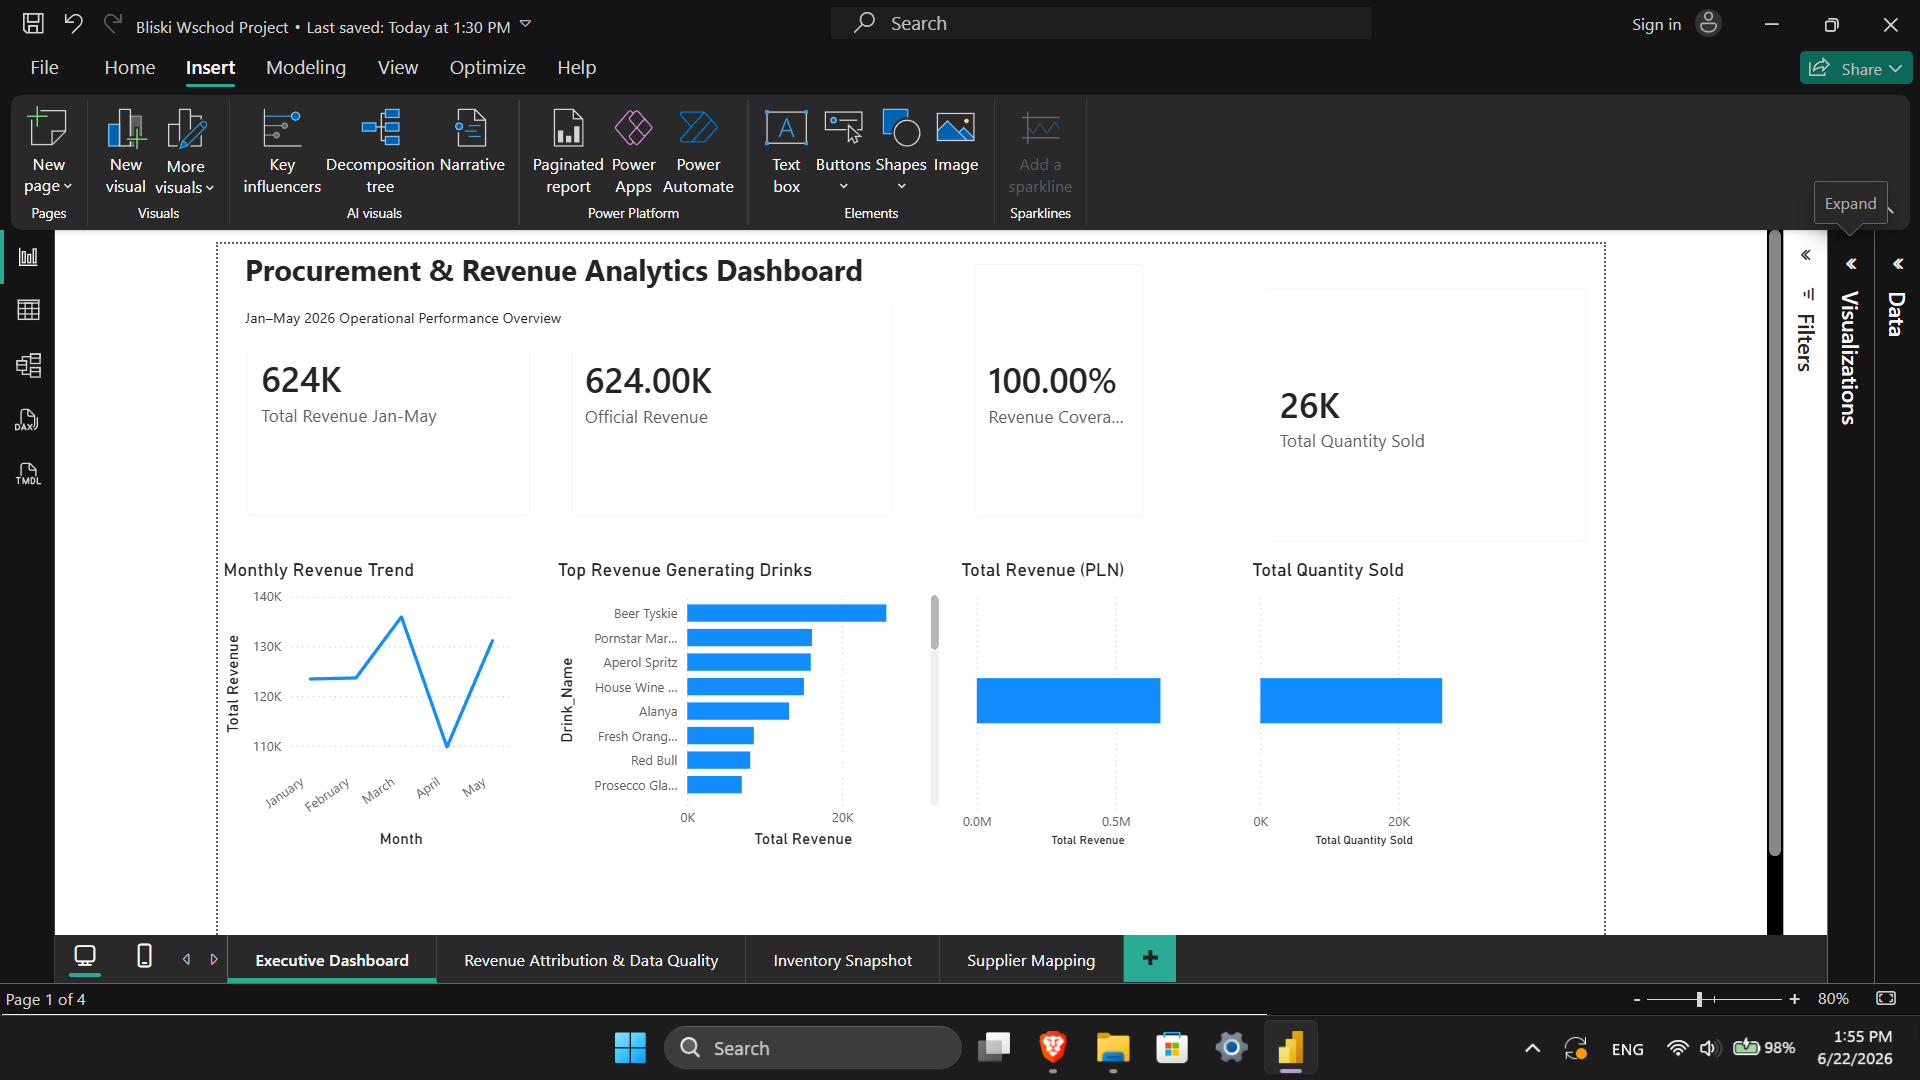

The page's visual inventory and layout, read from the dashboard file:
{"tool":"powerbi","page":{"name":"Executive Dashboard","canvas":[1280,720],"ordinal":0},"visuals":[{"type":"cardVisual","fields":{"Data":["Measure_Table.Total Revenue Jan-May"]},"box":[10,0,295,268.3],"z":0},{"type":"cardVisual","fields":{"Data":["Measure_Table.Official Revenue"]},"box":[308.3,1.7,331.7,268.3],"z":1000},{"type":"cardVisual","fields":{"Data":["Measure_Table.Revenue Coverage %"]},"box":[681.7,1.7,191.7,268.3],"z":2000},{"type":"cardVisual","fields":{"Data":["Measure_Table.Total Quantity Sold"]},"box":[950,23.3,330,268.3],"z":3000},{"type":"lineChart","title":"Monthly Revenue Trend","fields":{"Y":["Measure_Table.Total Revenue"],"Category":["01_Fact_DrinkSales_Monthly.Month.Variation.Date Hierarchy.Month"]},"box":[0,291.7,275,270],"z":4000},{"type":"clusteredBarChart","title":"Top Revenue Generating Drinks","fields":{"Category":["07_Dim_Drinks.Drink_Name"],"Y":["Measure_Table.Total Revenue"]},"box":[308.3,291.7,361.7,270],"z":5000},{"type":"clusteredBarChart","title":"Total Revenue (PLN)","fields":{"Y":["Measure_Table.Total Revenue"]},"box":[681.7,291.7,243.3,270],"z":6000},{"type":"clusteredBarChart","fields":{"Y":["Measure_Table.Total Quantity Sold"]},"box":[950,291.7,218.3,270],"z":7000},{"type":"textbox","box":[20,0,640,54.3],"z":7001},{"type":"textbox","box":[20,54.3,397.1,44.3],"z":7002}]}

Visuals, with their boxes on the page's 1280x720 design canvas (x1, y1, x2, y2). These are canvas units, not pixel positions in the 1920x1080 screenshot, which may show the page scaled, cropped or inside an application window:
cardVisual - Measure_Table.Total Revenue Jan-May: Rect(10, 0, 305, 268)
cardVisual - Measure_Table.Official Revenue: Rect(308, 2, 640, 270)
cardVisual - Measure_Table.Revenue Coverage %: Rect(682, 2, 873, 270)
cardVisual - Measure_Table.Total Quantity Sold: Rect(950, 23, 1280, 292)
"Monthly Revenue Trend" lineChart: Rect(0, 292, 275, 562)
"Top Revenue Generating Drinks" clusteredBarChart: Rect(308, 292, 670, 562)
"Total Revenue (PLN)" clusteredBarChart: Rect(682, 292, 925, 562)
clusteredBarChart - Measure_Table.Total Quantity Sold: Rect(950, 292, 1168, 562)
textbox: Rect(20, 0, 660, 54)
textbox: Rect(20, 54, 417, 99)
